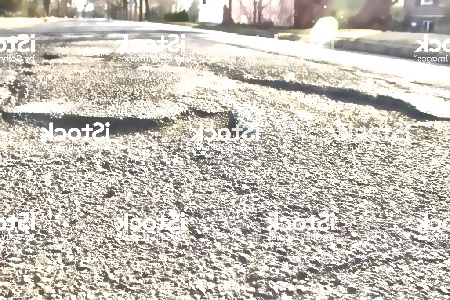pothole: (234, 73, 444, 136), (1, 105, 245, 150)
